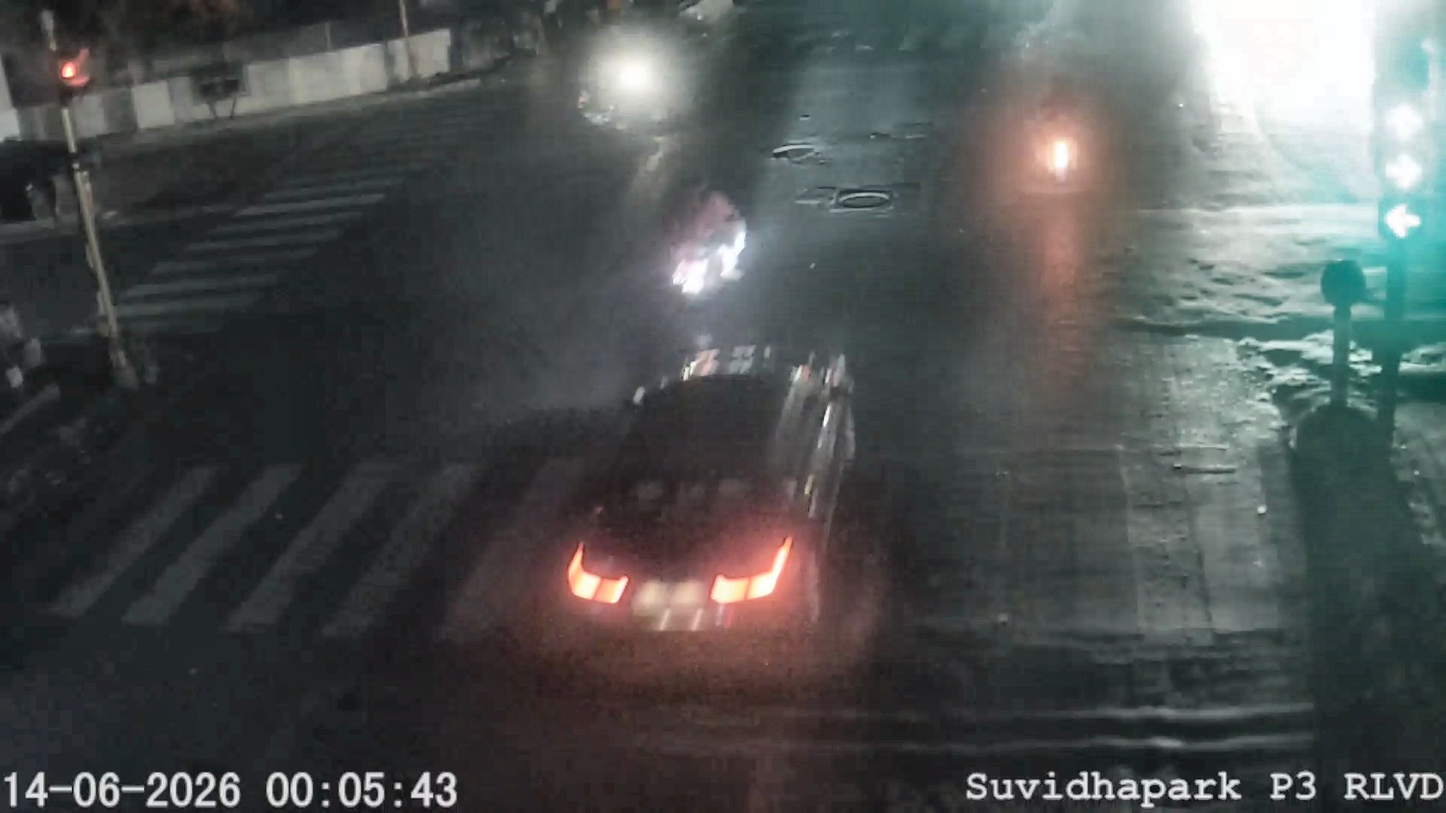car: (539, 347, 878, 707)
two_wheeler: (664, 195, 756, 323), (1015, 77, 1098, 213)
